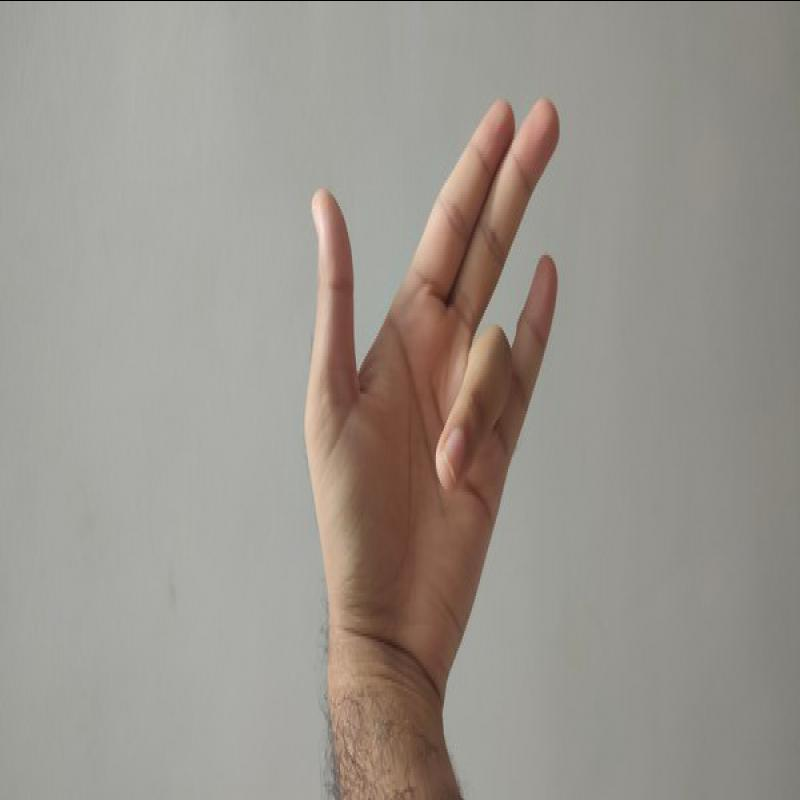Pathaaka: (289, 80, 582, 677)
